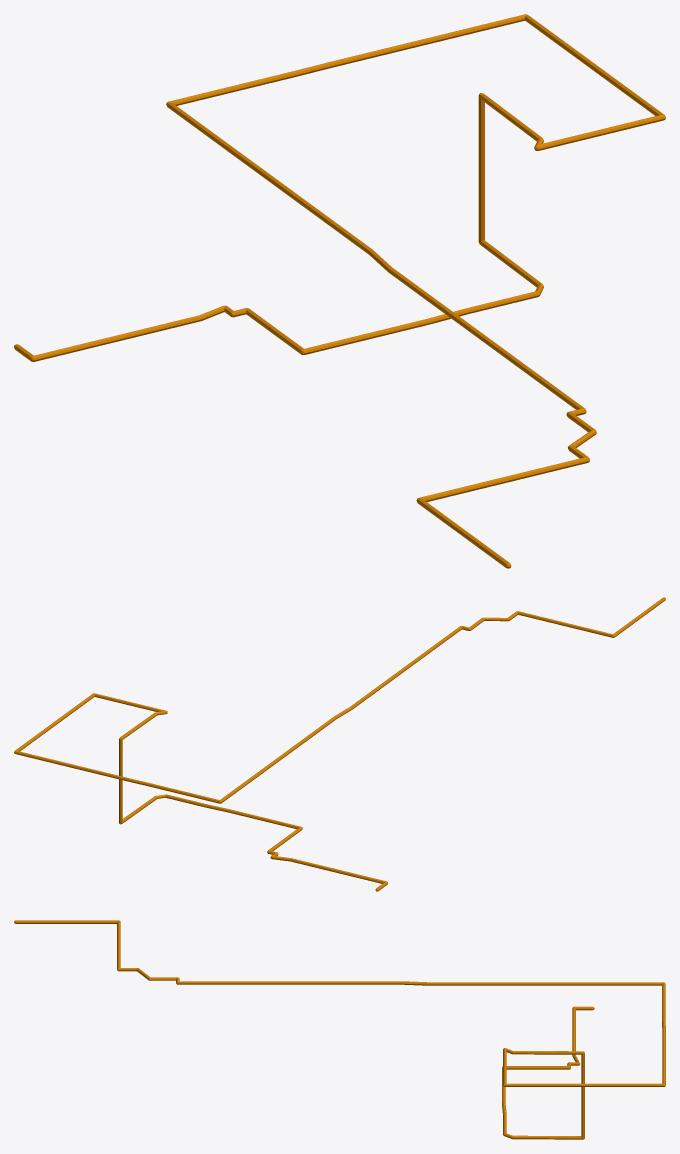
The picture shows the model from 3 angles, top to bottom: view 1: azimuth 30°, elevation 25°; view 2: azimuth 150°, elevation 25°; view 3: azimuth 270°, elevation 25°; orthographic projection. The views are drawn at different scales.
Bounding box in the file's own units: 2081 × 520 × 3481.
